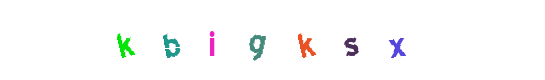B: (172, 0, 252, 80)
G: (232, 0, 312, 80)
I: (180, 0, 260, 80)
K: (84, 0, 164, 80), (265, 0, 345, 80)
S: (311, 0, 391, 80)
X: (357, 0, 437, 80)
